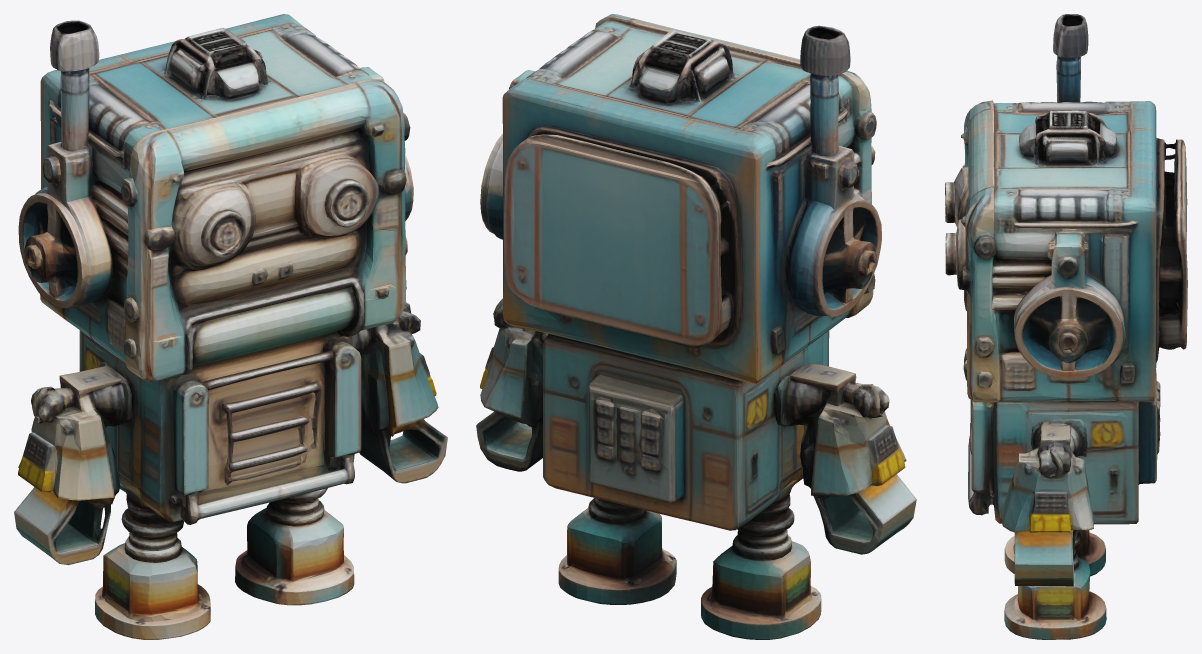
3 views of the same model, side by side, from view 1: azimuth 30°, elevation 25°; view 2: azimuth 150°, elevation 25°; view 3: azimuth 270°, elevation 25° (orthographic). The views are drawn at different scales.
Parts seen in each view (by area): view 1: world; view 2: world; view 3: world.
Boxes of the visible parts, x1,y1,x2,y2 form: world: [14, 14, 447, 639]; world: [476, 14, 916, 639]; world: [945, 14, 1187, 639].
Bounding box in the file's own units: 0.7015 × 1 × 0.4305.
Materials: 1 (1 with a texture image).
